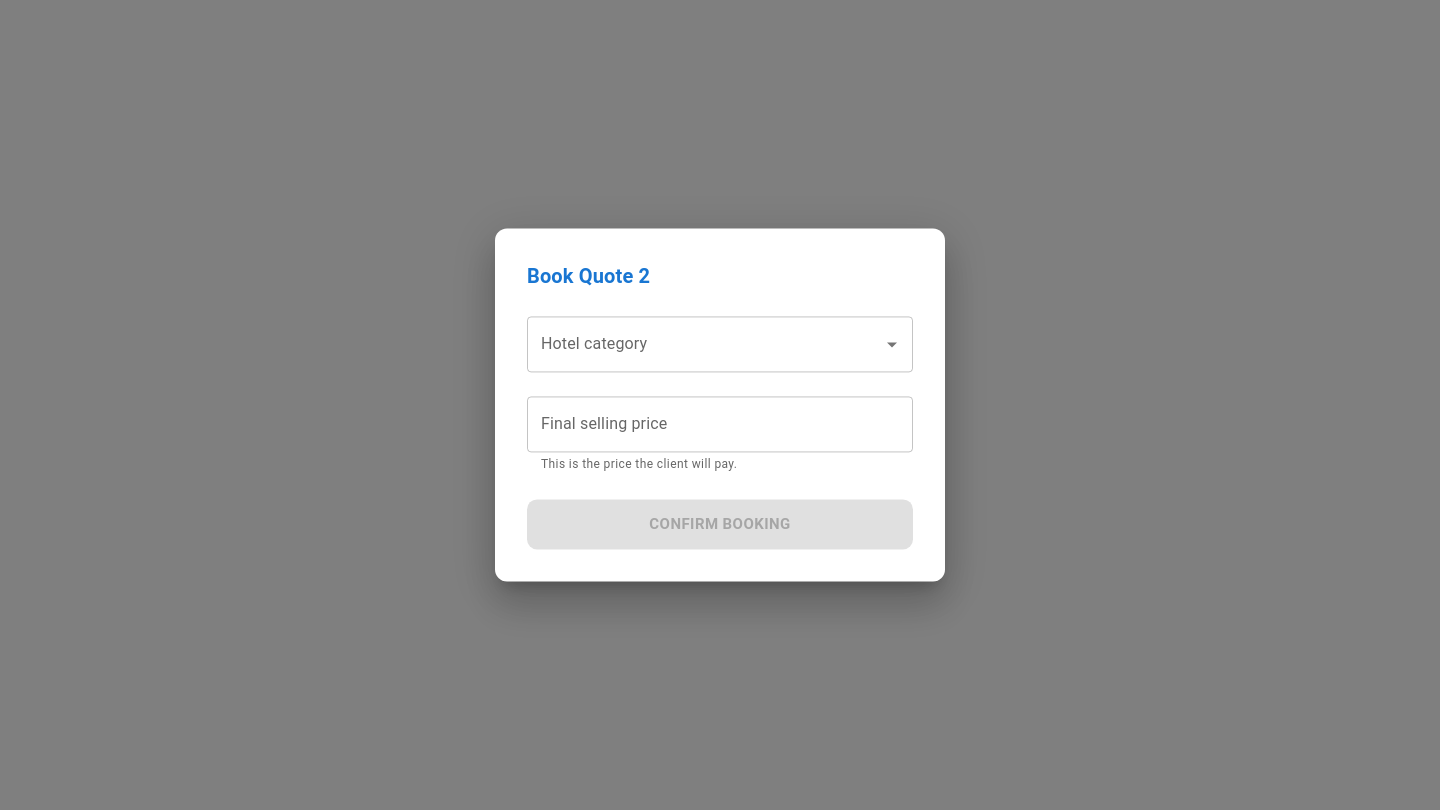
booking a quote › a total price is booked as it is
Press the mouse on the dropdown labelled "Hotel category" at (705, 344), box [536, 325, 874, 363]
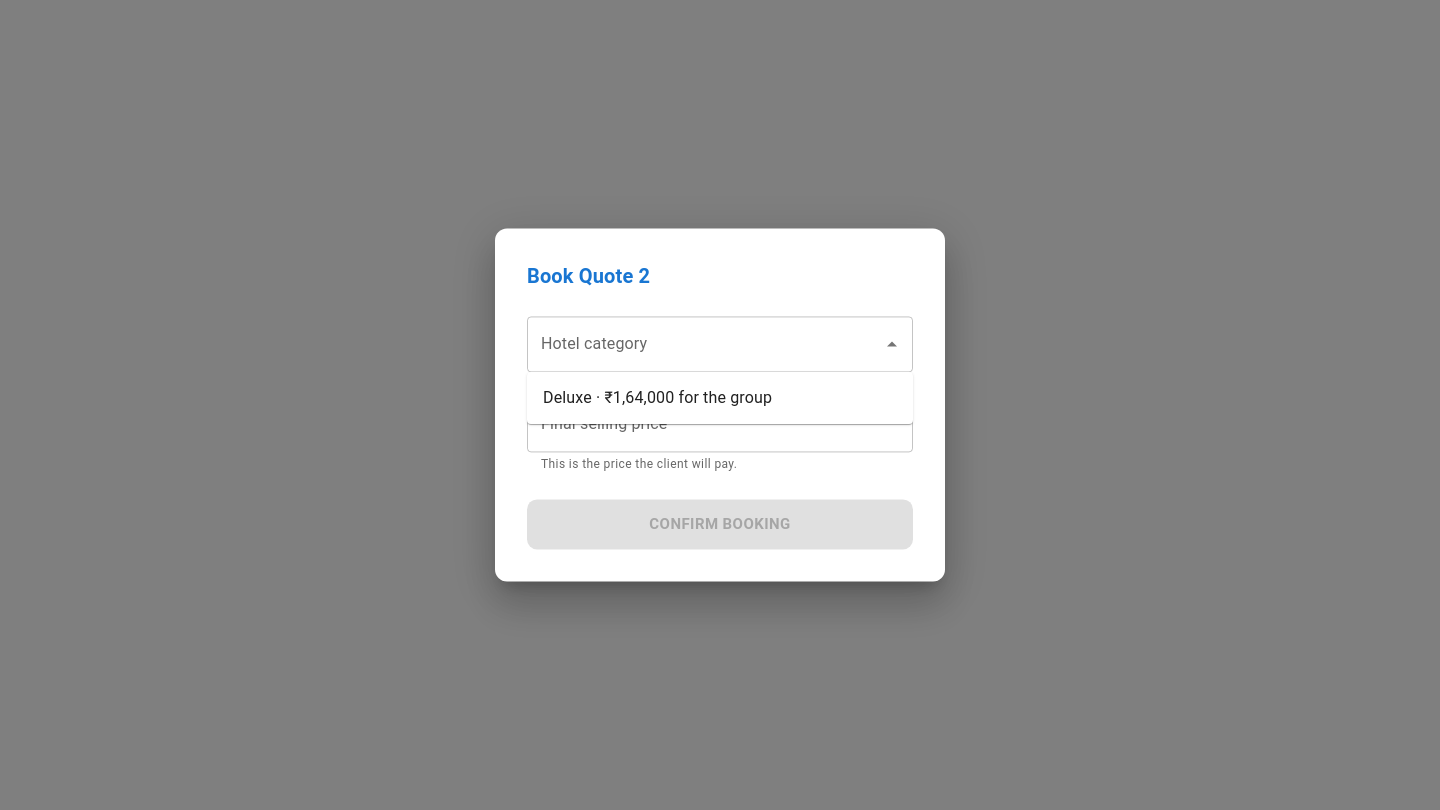
Click the option "Deluxe · ₹1,64,000 for the group" at (658, 398), box [543, 388, 772, 407]
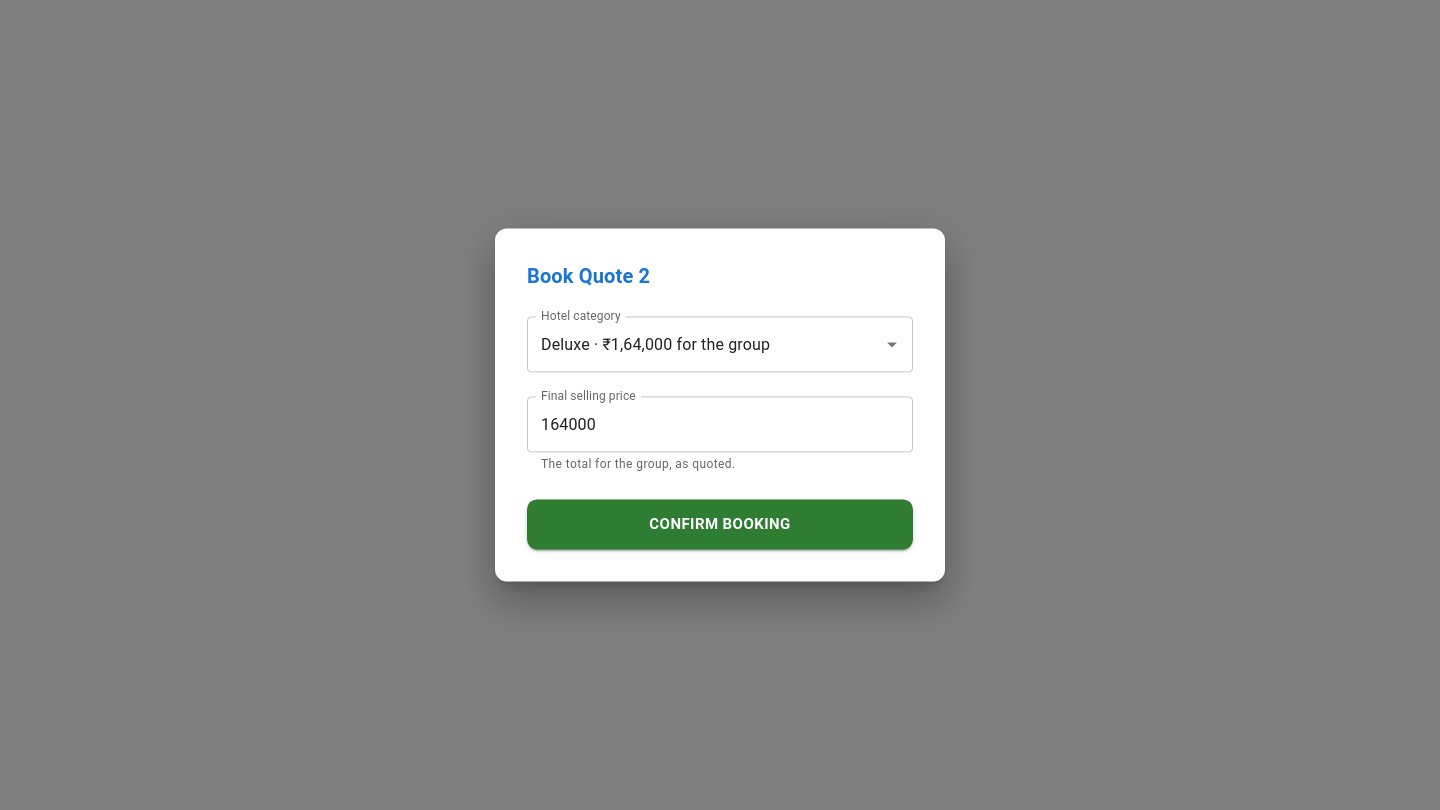
Now the number field labelled "Final selling price" holds "164000", box [527, 396, 913, 452]
Now the text "The total for the group, as quoted." is shown, box [541, 457, 736, 471]
